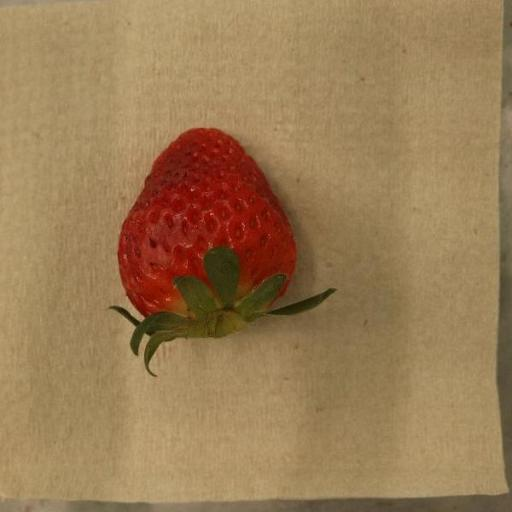Strawberry: (109, 128, 336, 376)
